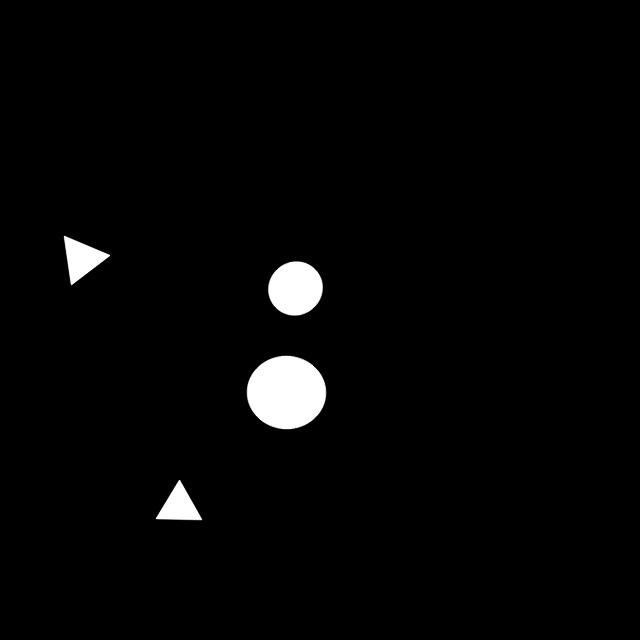Circle: (237, 348, 336, 444), (253, 256, 336, 324)
Triangle: (47, 223, 120, 299), (148, 464, 212, 542)
